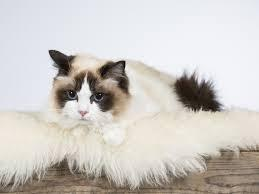ragdoll: (46, 38, 136, 138)
